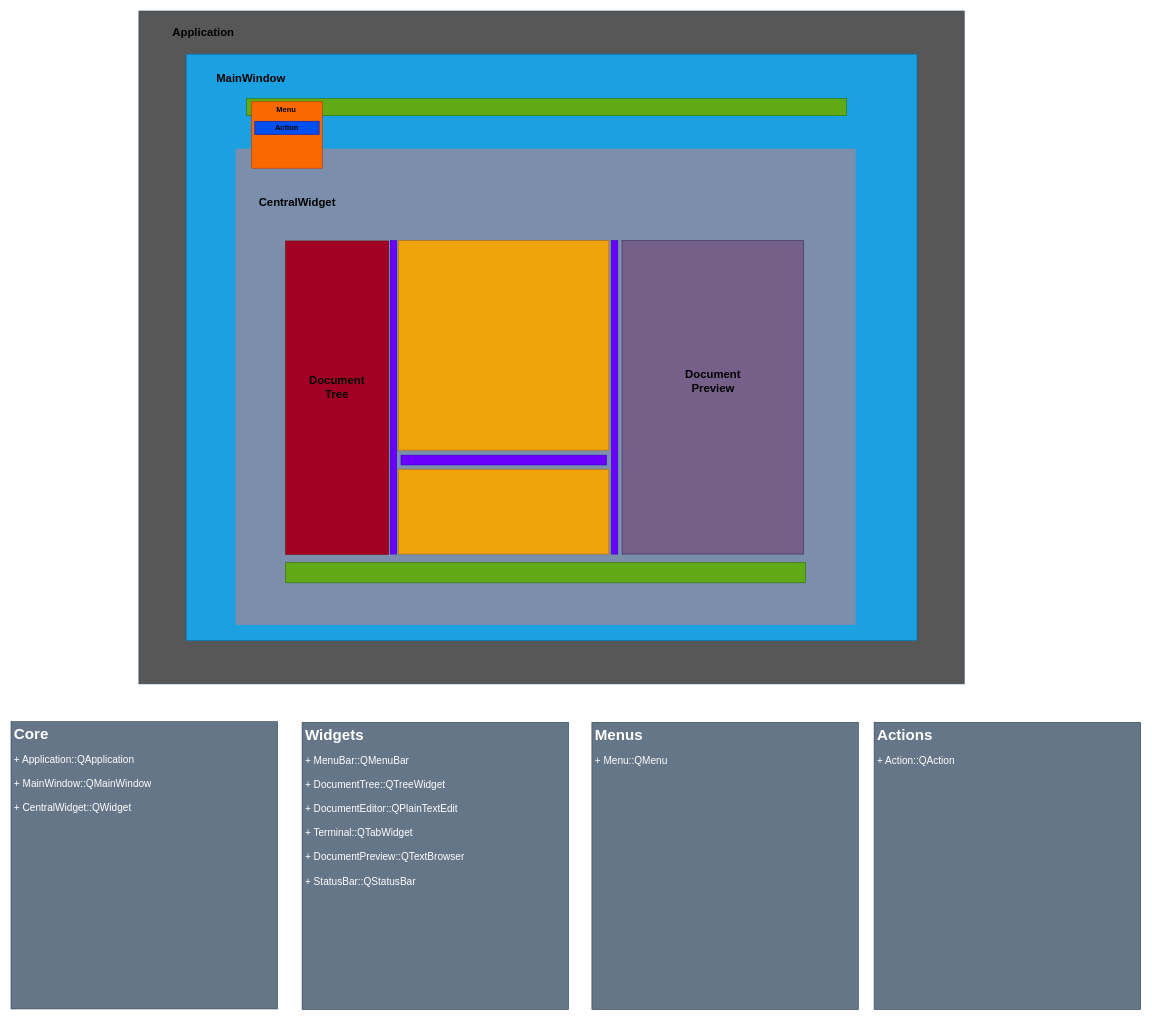
This 1152x1021 diagram has some shape labels left out. Each missing label, with the centre of its shape:
"Document Editor" belongs at point 503,345.
"MenuBar" belongs at point 546,107.
"StatusBar" belongs at point 545,572.
"Terminal" belongs at point 503,511.
